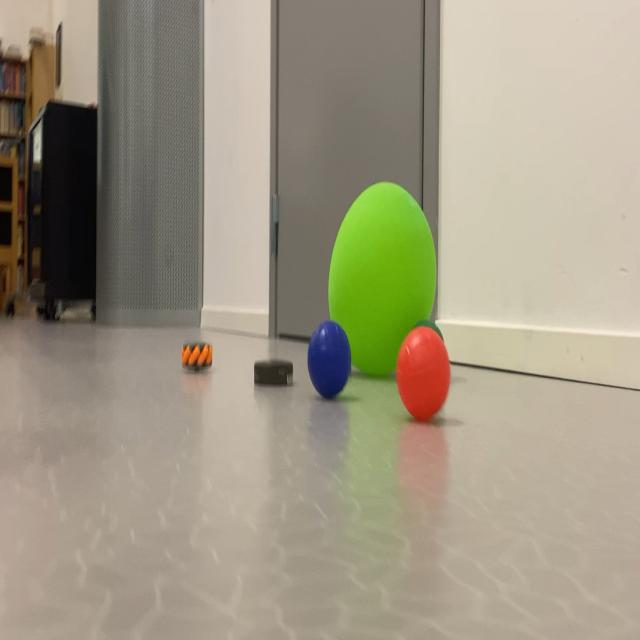7: (390, 324, 461, 447)
green ball: (296, 303, 367, 443)
